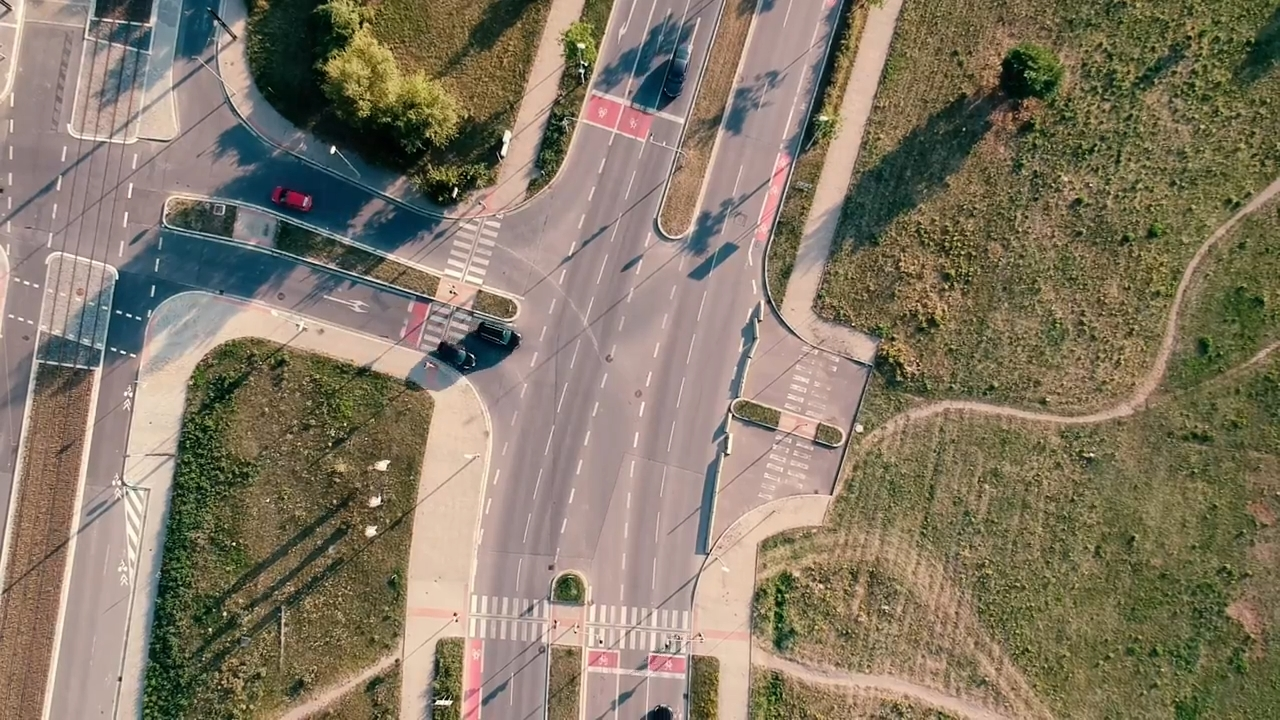car: (663, 45, 692, 97), (478, 319, 523, 352), (270, 182, 312, 212), (439, 337, 476, 371), (652, 702, 674, 720)
